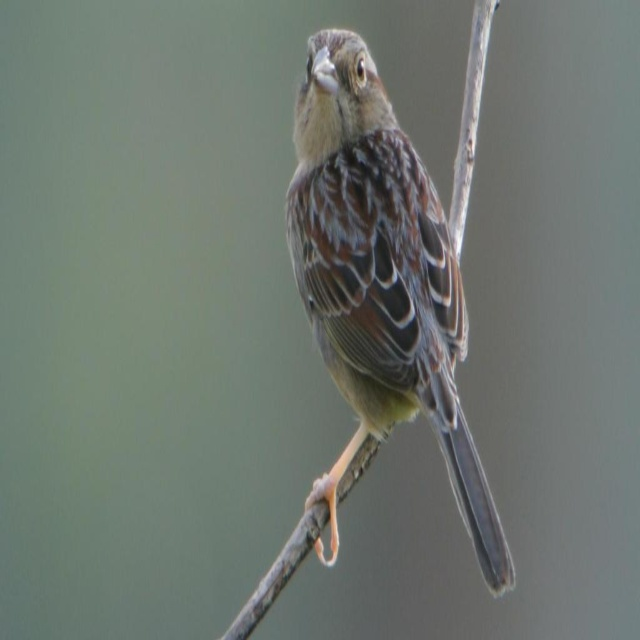Sparrow: (284, 26, 518, 599)
